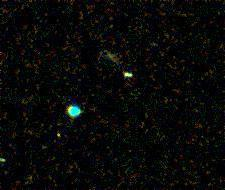star: (35, 123, 65, 153)
